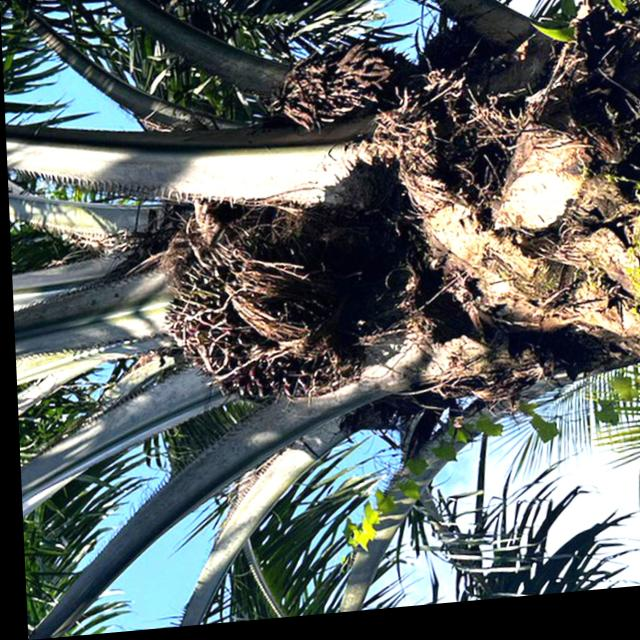unripe: (144, 172, 382, 429)
